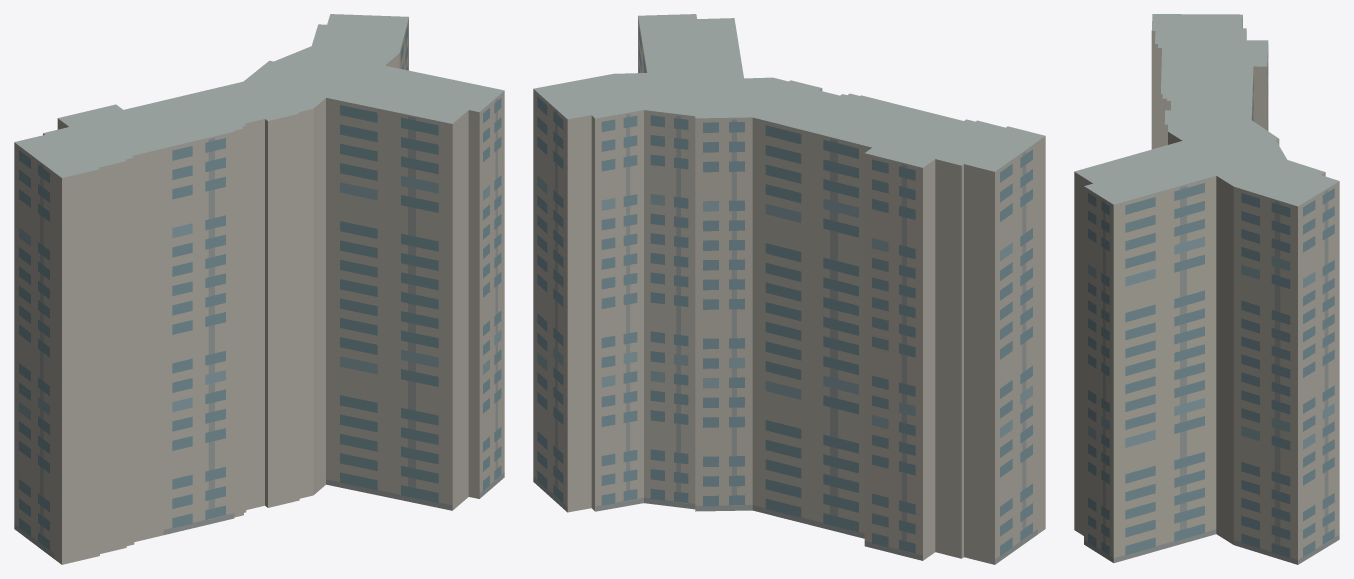
Rendered from residential-a26ec54b-1526-4fde-a2a8-042ffe7b7cbb.glb.
3 views of the same model, side by side, from view 1: azimuth 30°, elevation 25°; view 2: azimuth 150°, elevation 25°; view 3: azimuth 270°, elevation 25° (orthographic). The views are drawn at different scales.
Parts seen in each view (by area): view 1: residential-a26ec54b-1526-4fde-a2a8-042ffe7b7cbb.tmp; view 2: residential-a26ec54b-1526-4fde-a2a8-042ffe7b7cbb.tmp; view 3: residential-a26ec54b-1526-4fde-a2a8-042ffe7b7cbb.tmp.
Boxes of the visible parts, left/top/right/bottom form: residential-a26ec54b-1526-4fde-a2a8-042ffe7b7cbb.tmp: left=14, top=14, right=504, bottom=564; residential-a26ec54b-1526-4fde-a2a8-042ffe7b7cbb.tmp: left=533, top=14, right=1045, bottom=564; residential-a26ec54b-1526-4fde-a2a8-042ffe7b7cbb.tmp: left=1074, top=14, right=1339, bottom=564.
Bounding box in the file's own units: 65.65 × 57 × 38.27.
